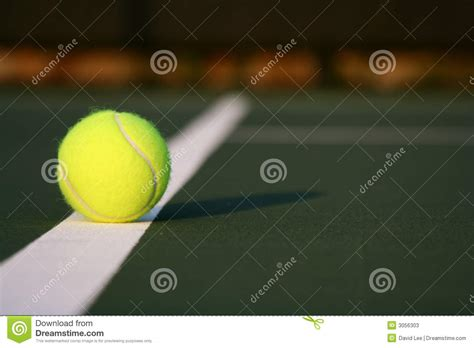tennis_ball: (55, 108, 173, 223)
